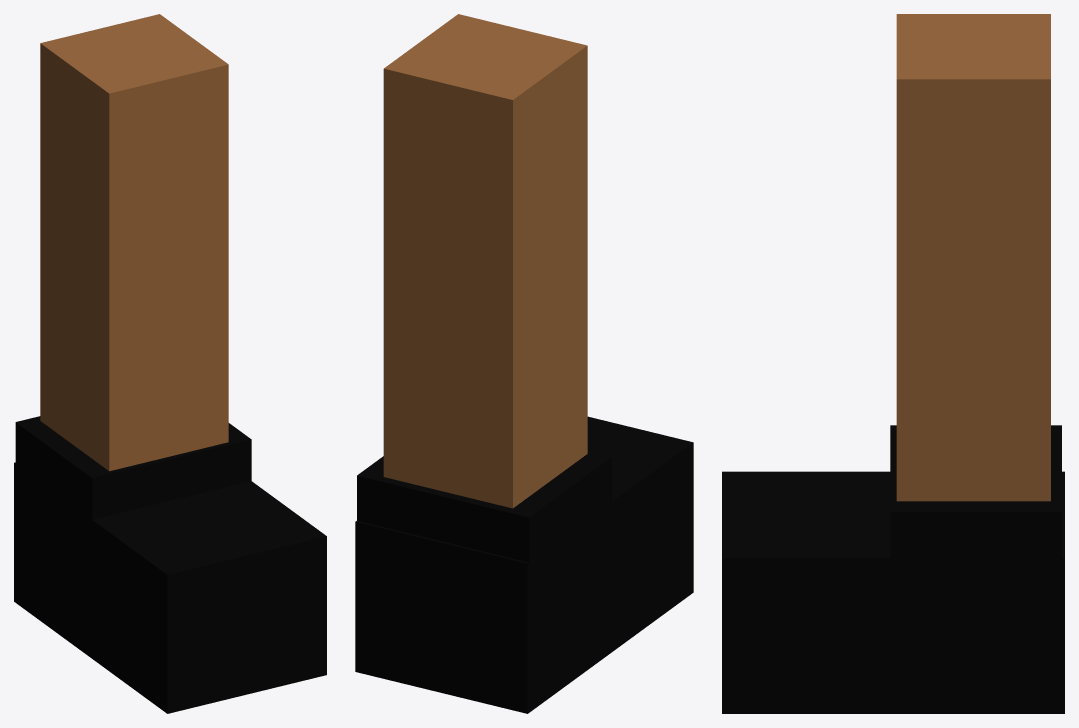
Rendered from legModel.glb.
The picture shows the model from 3 angles, left to right: view 1: azimuth 30°, elevation 25°; view 2: azimuth 150°, elevation 25°; view 3: azimuth 270°, elevation 25°; orthographic projection. The views are drawn at different scales.
Visible parts, largest first — view 1: Box, Box_1 (×2); view 2: Box, Box_1 (×2); view 3: Box_1 (×2), Box.
Part boxes in pixels (left/top/right/bottom): Box: left=40, top=14, right=228, bottom=471; Box_1 (×2): left=14, top=416, right=326, bottom=713; Box: left=383, top=14, right=587, bottom=508; Box_1 (×2): left=355, top=416, right=693, bottom=713; Box_1 (×2): left=722, top=425, right=1064, bottom=713; Box: left=896, top=14, right=1050, bottom=501.
Bounding box in the file's own units: 0.12 × 0.4017 × 0.2.
